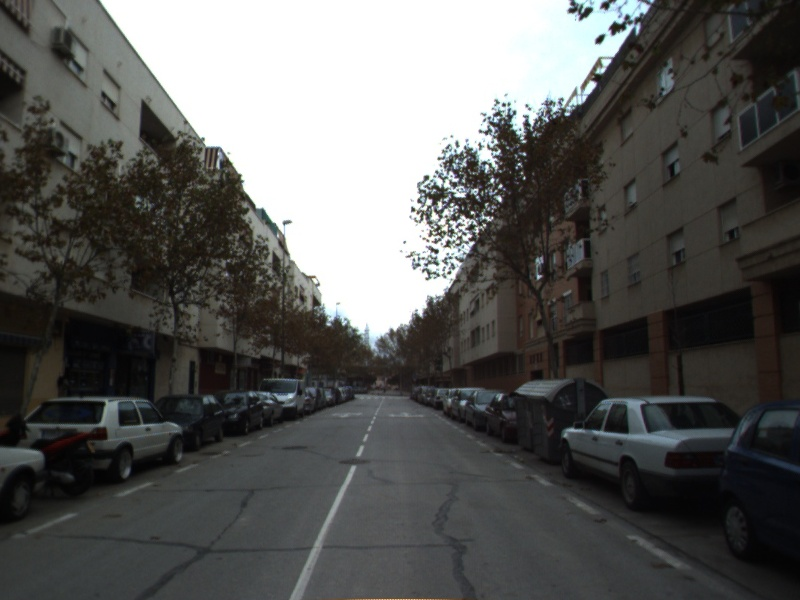STRAIGHT_LEFT_RIGHT: (385, 410, 427, 420)
